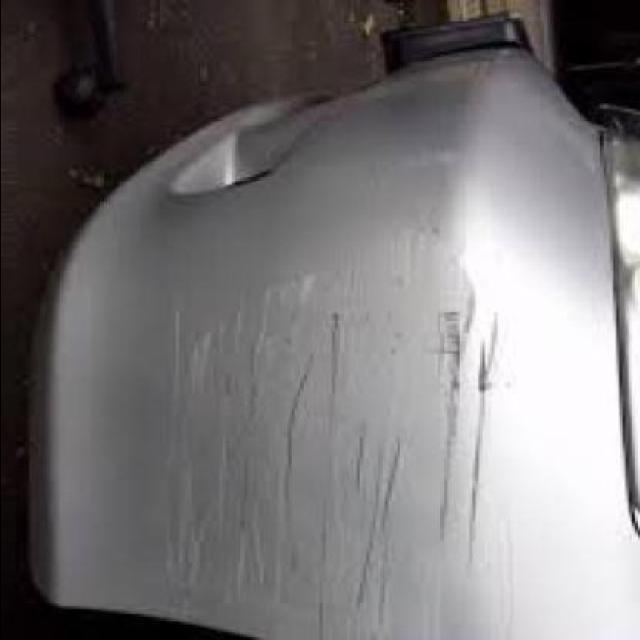rear-bumper-scratch: (108, 248, 526, 613)
